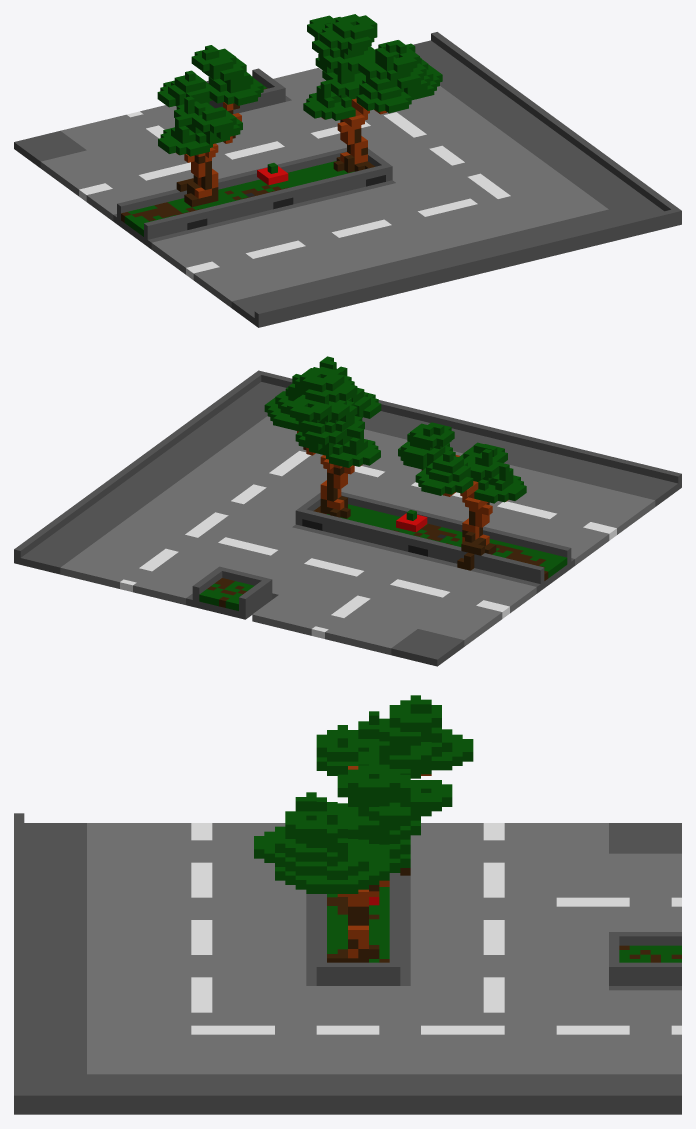
File: StreetKurveWinWin.obj
The picture shows the model from 3 angles, top to bottom: view 1: azimuth 30°, elevation 25°; view 2: azimuth 150°, elevation 25°; view 3: azimuth 270°, elevation 25°; orthographic projection. The views are drawn at different scales.
Parts seen in each view (by area): view 1: StreetKurveWinWin; view 2: StreetKurveWinWin; view 3: StreetKurveWinWin.
Boxes of the visible parts, bbox=[...] form: StreetKurveWinWin: bbox=[14, 14, 681, 327]; StreetKurveWinWin: bbox=[14, 356, 681, 666]; StreetKurveWinWin: bbox=[14, 695, 681, 1114].
Bounding box in the file's own units: 64 × 22 × 64.
1 material, 1 textured.
